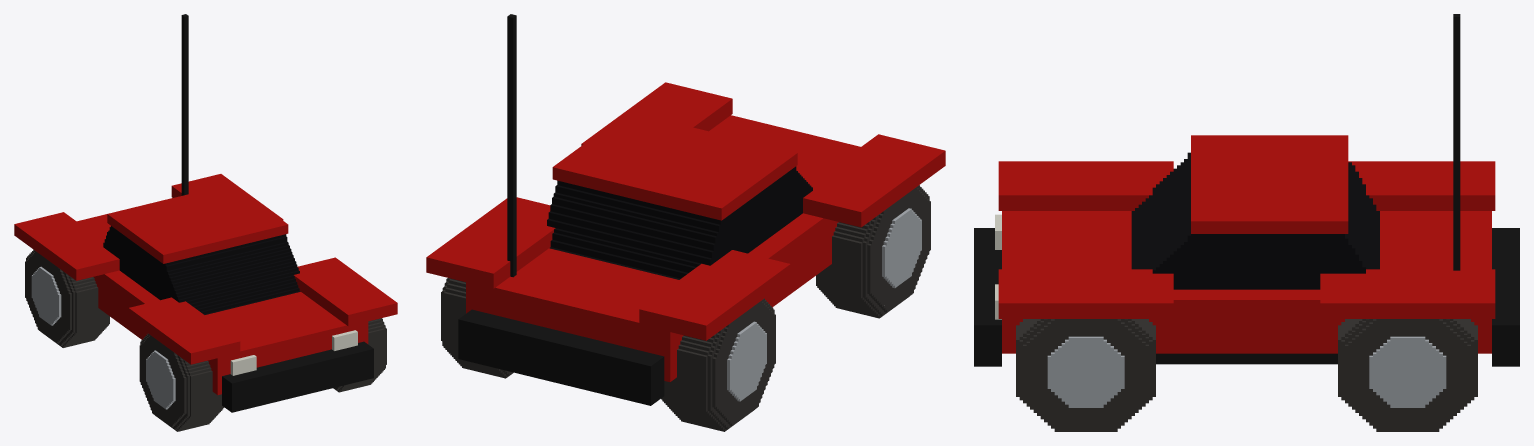
Rendered from radio_car.glb.
3 renders of one model, left to right at view 1: azimuth 30°, elevation 25°; view 2: azimuth 150°, elevation 25°; view 3: azimuth 270°, elevation 25°, orthographic. The views are drawn at different scales.
Parts seen in each view (by area): view 1: radio_car:compound; view 2: radio_car:compound; view 3: radio_car:compound.
Part boxes in pixels (x1,y1,x2,y2): radio_car:compound: [14, 14, 397, 431]; radio_car:compound: [426, 14, 945, 431]; radio_car:compound: [974, 14, 1519, 431].
Size of the model in its own units: 0.192 by 0.244 by 0.312.
